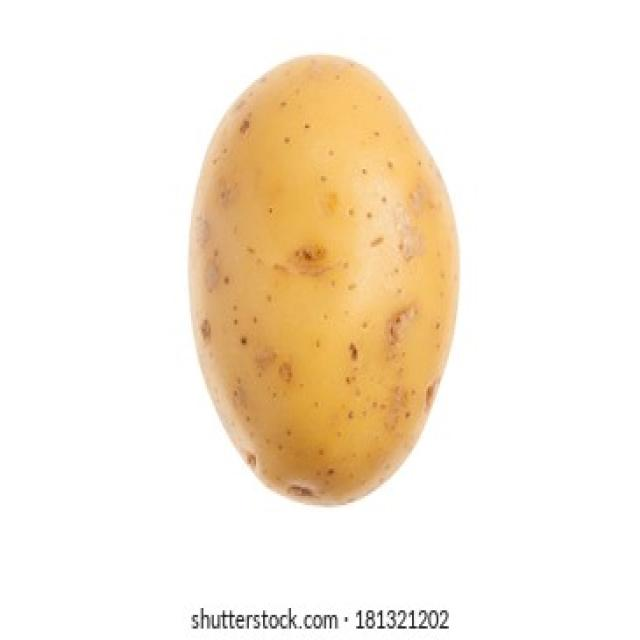potato: (188, 55, 461, 505)
